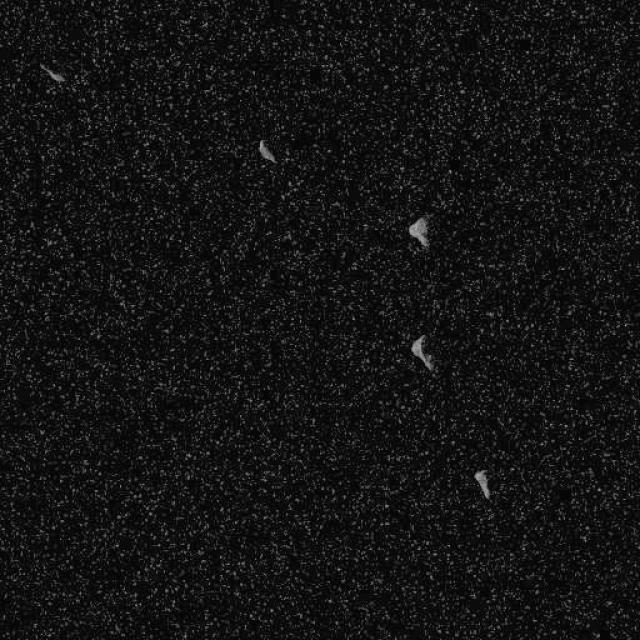D2: (409, 332, 435, 372), (408, 215, 430, 247), (37, 61, 65, 84), (472, 468, 492, 500), (256, 138, 276, 164)
